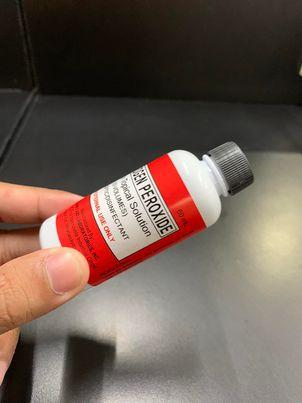-Bottle-: (38, 140, 256, 292)
